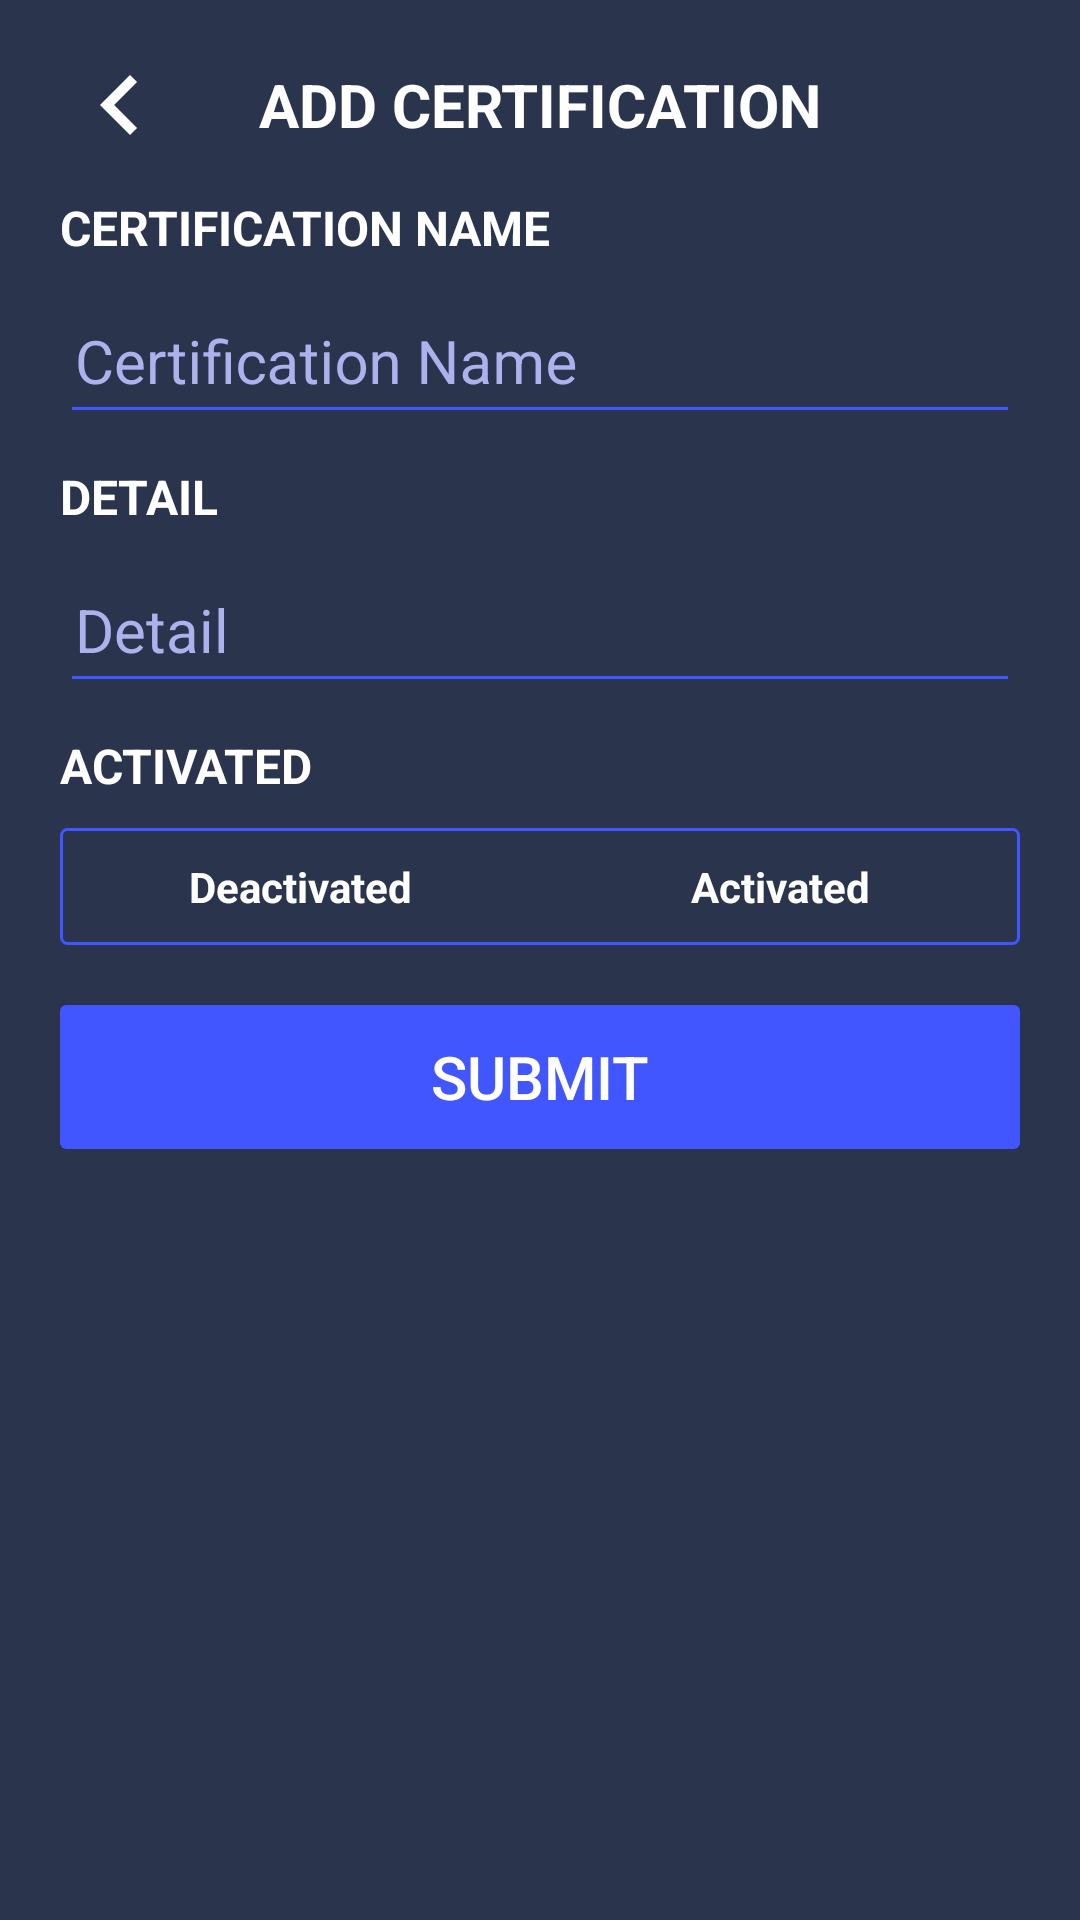

Icon bounding boxes for this 1080px×1920px phone screenshot, format (x1, y1, x2, y2):
chevron left: (100, 75, 137, 135)
